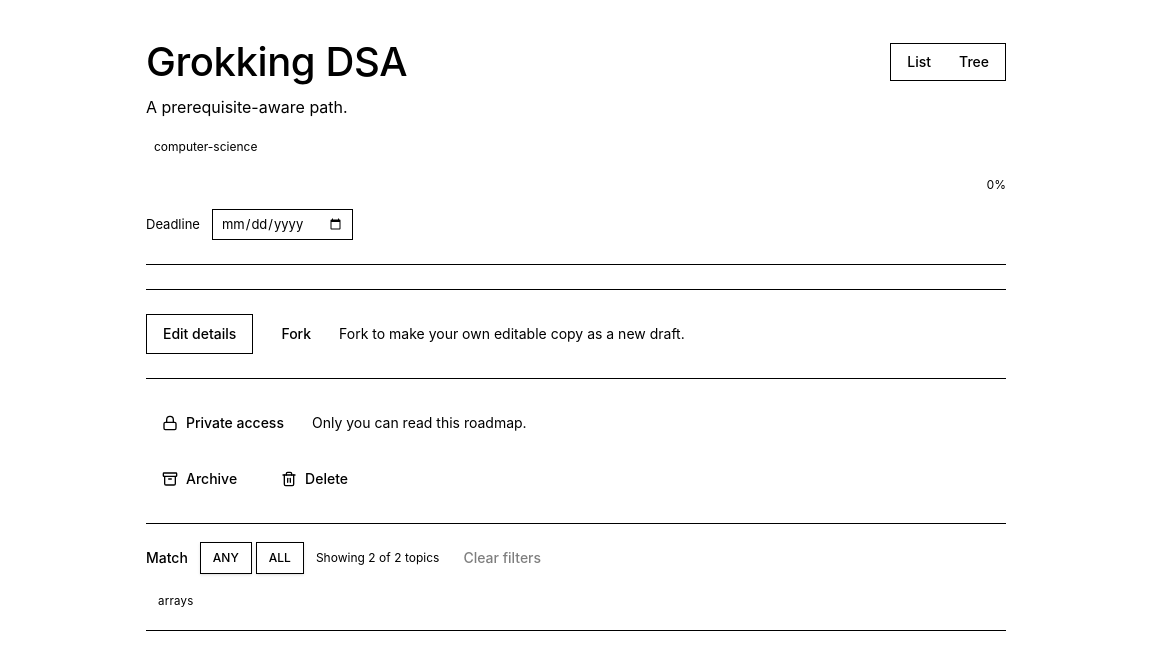
Test case: RoadmapView web-only lifecycle › surfaces a retry message when archive fails (500)
Step 1. Click the button "Archive" → [200, 479], box [146,459,253,499]
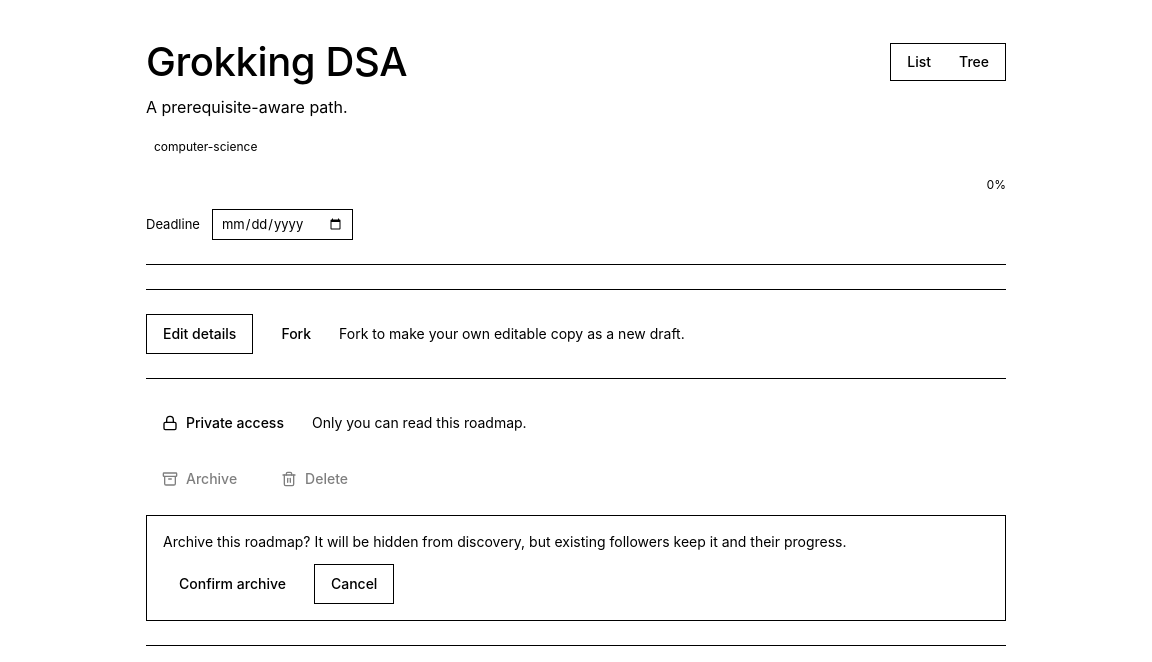
Step 2. Click the button "Confirm archive" → [232, 584], box [163,564,302,604]
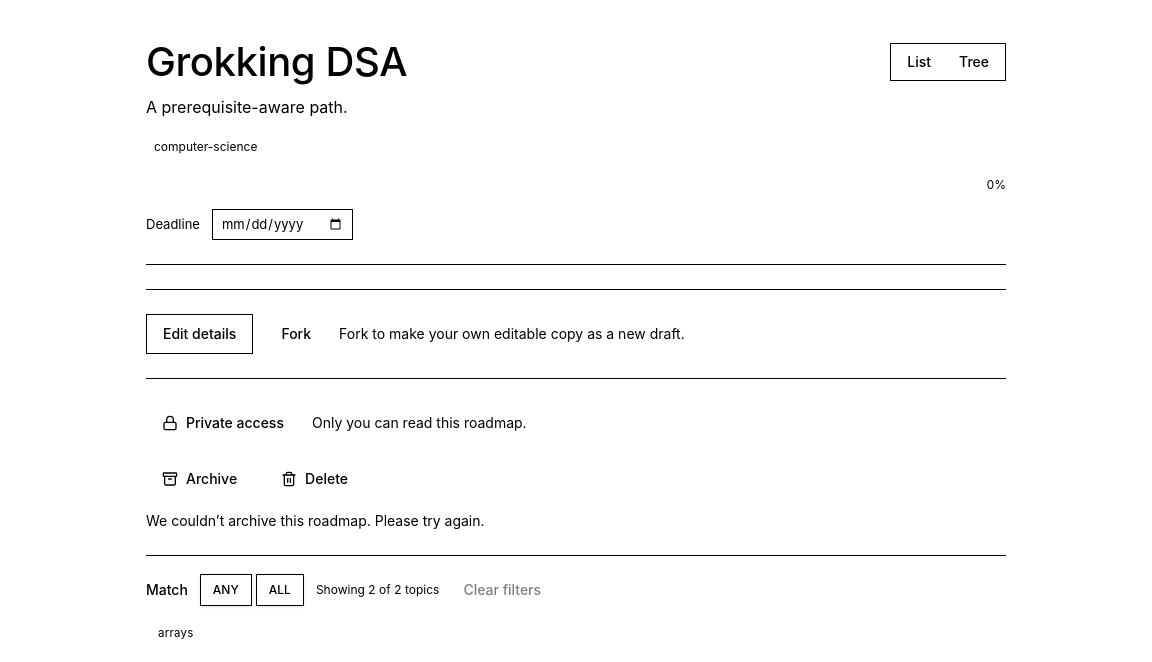
expect the button "Archive" is shown: met, box [146,459,253,499]
expect the text "We couldn’t archive this roadmap. Please try again." is shown: met, box [146,512,485,529]
